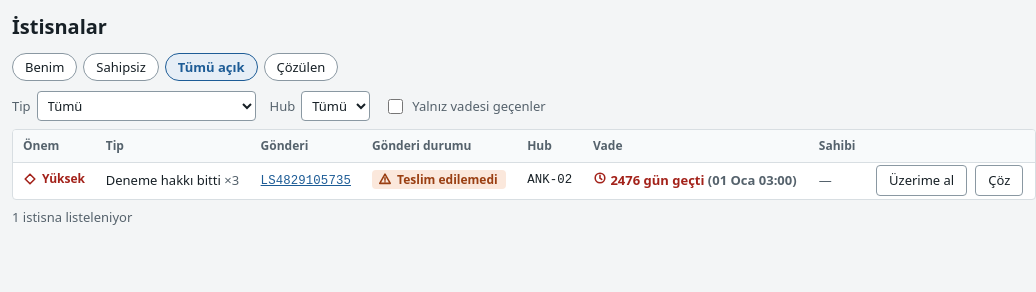
istisna kuyruğu › üzerine alırken If-Match ve kendi kimliğini gönderir, sonra kuyruğu yeniden okur
The image size is (1036, 292).
Click the button "Üzerime al" at (922, 180), box x1=876 y1=165 x2=967 y2=196
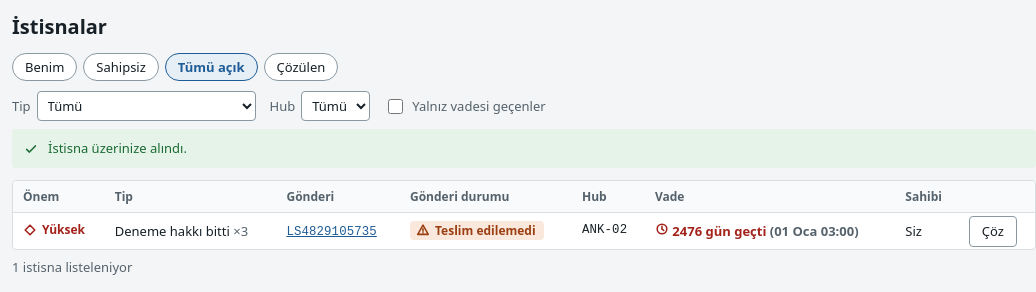
Expected: the text "İstisna üzerinize alındı." is shown, x1=48 y1=139 x2=187 y2=158
Expected: the text "Siz" is shown, x1=895 y1=213 x2=959 y2=249
Expected: the button "Üzerime al" is gone
